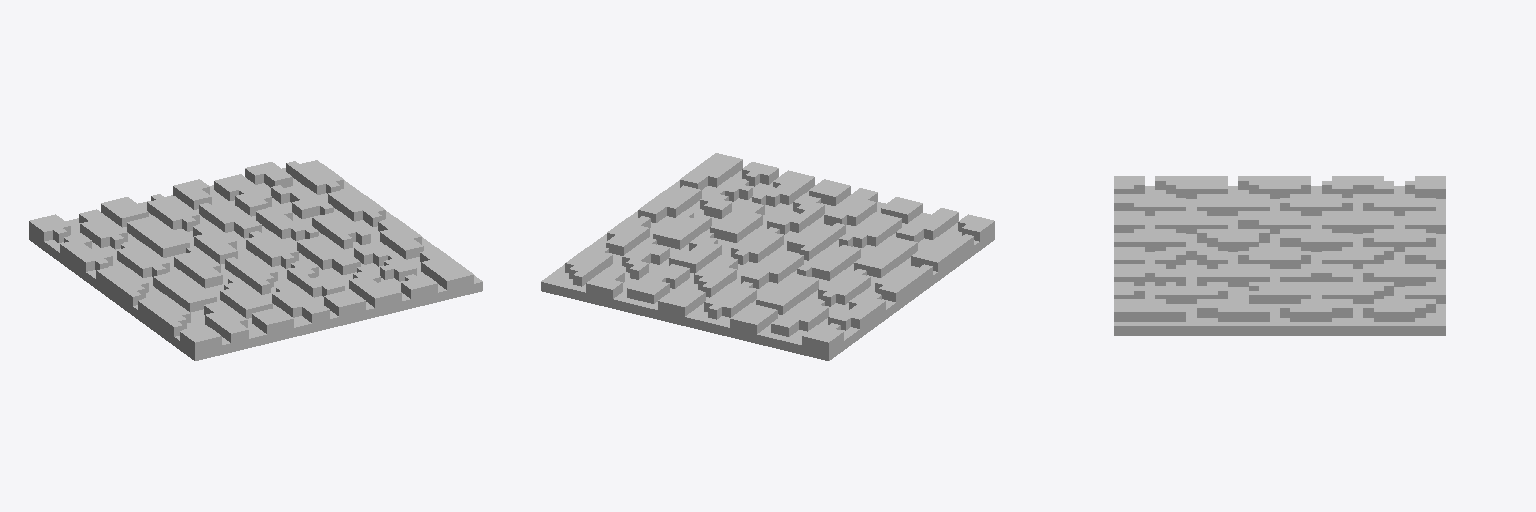
The model's file is brick.obj.
The picture shows the model from 3 angles: view 1: azimuth 30°, elevation 25°; view 2: azimuth 150°, elevation 25°; view 3: azimuth 270°, elevation 25°; orthographic projection.
Visible parts, largest first — view 1: object 1; view 2: object 1; view 3: object 1.
Part boxes in pixels (bbox=[...]): object 1: bbox=[29, 160, 482, 360]; object 1: bbox=[541, 153, 994, 360]; object 1: bbox=[1114, 176, 1445, 335].
Size of the model in its own units: 3.2 by 0.2 by 3.2.